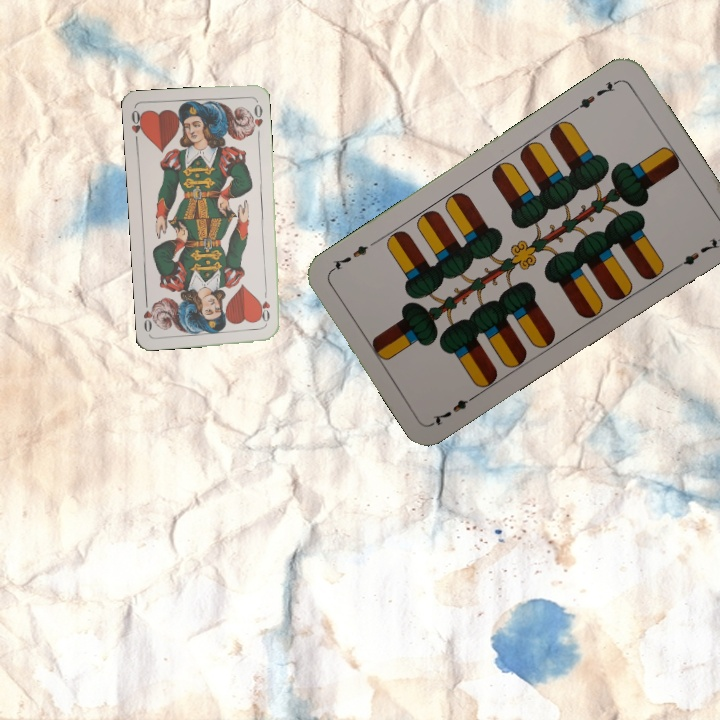E7: (428, 389, 481, 428), (569, 76, 622, 114)
HO: (127, 106, 146, 146), (258, 286, 273, 327)
